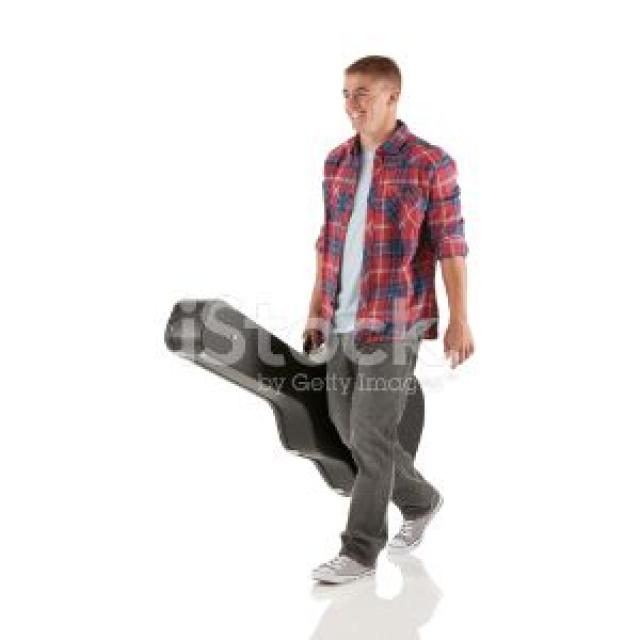nonfall: (310, 39, 471, 583)
